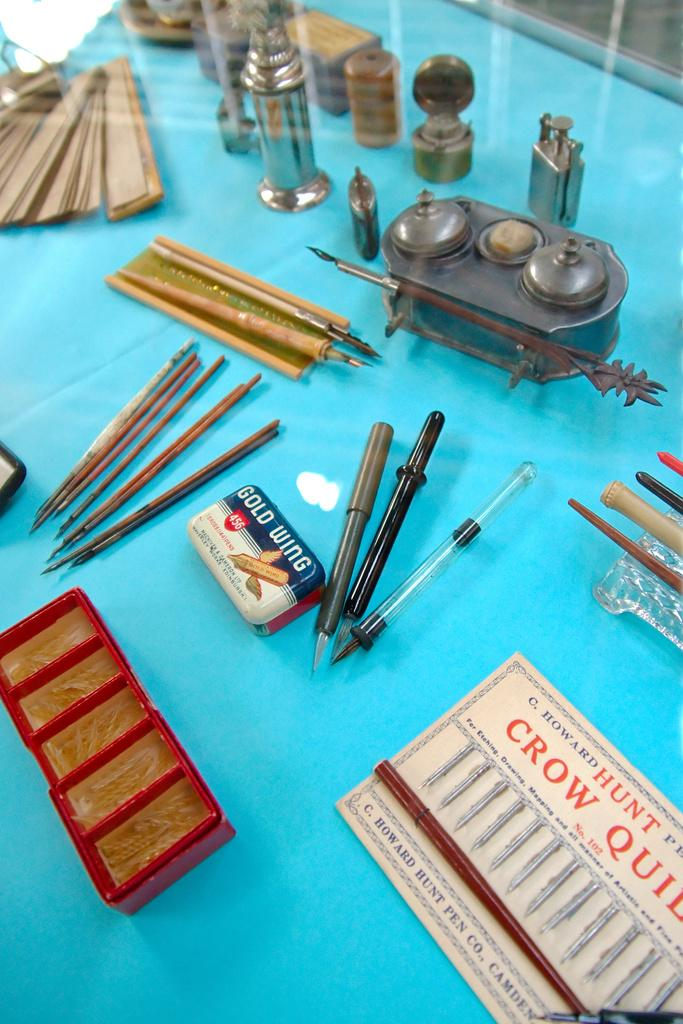pen: (302, 247, 665, 408), (329, 461, 547, 672), (324, 404, 442, 660), (306, 424, 402, 679), (630, 466, 682, 518), (654, 445, 680, 478)
